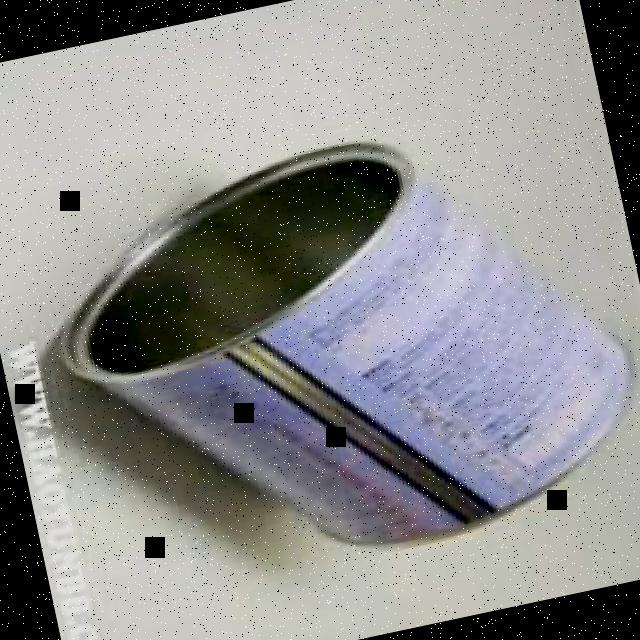can: (23, 83, 640, 611)
